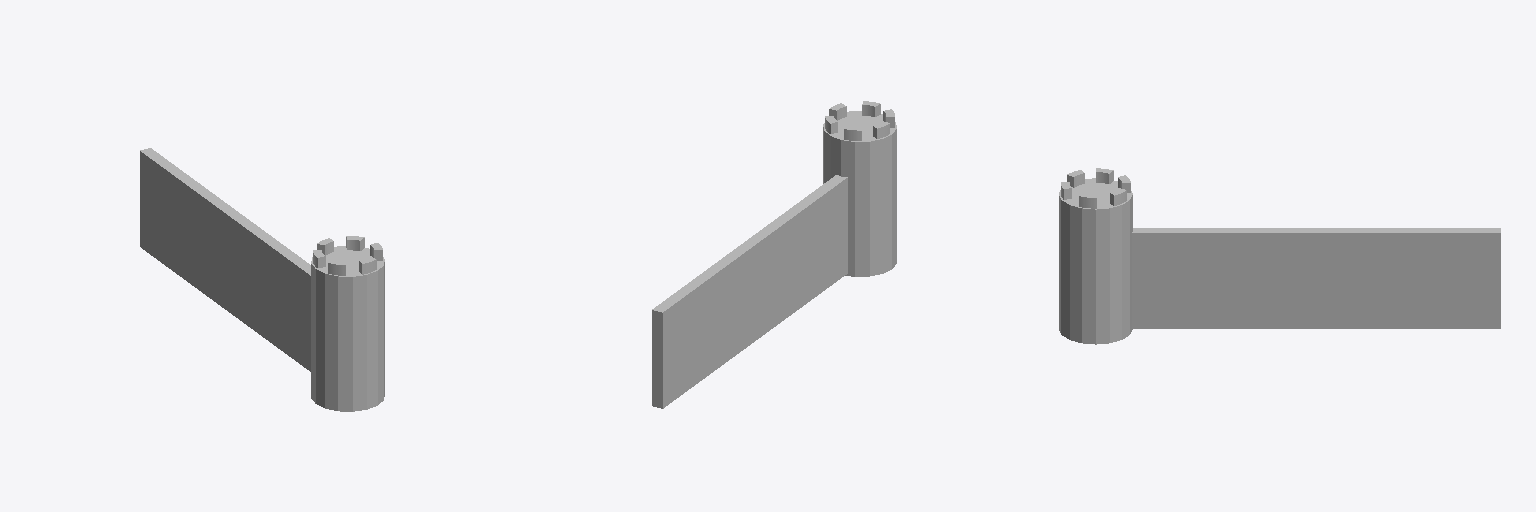
The model's file is CastleWalls.obj.
3 views of the same model, side by side, from view 1: azimuth 30°, elevation 25°; view 2: azimuth 150°, elevation 25°; view 3: azimuth 270°, elevation 25° (orthographic).
Visible parts, largest first — view 1: Cube, Tube.5; view 2: Cube, Tube.5; view 3: Cube, Tube.5.
Part boxes in pixels (x1,y1,x2,y2): Cube: (140, 148, 310, 371); Tube.5: (311, 236, 384, 411); Cube: (652, 175, 847, 408); Tube.5: (823, 101, 896, 276); Cube: (1132, 228, 1500, 328); Tube.5: (1059, 168, 1132, 344).
Size of the model in its own units: 100 by 216 by 595.